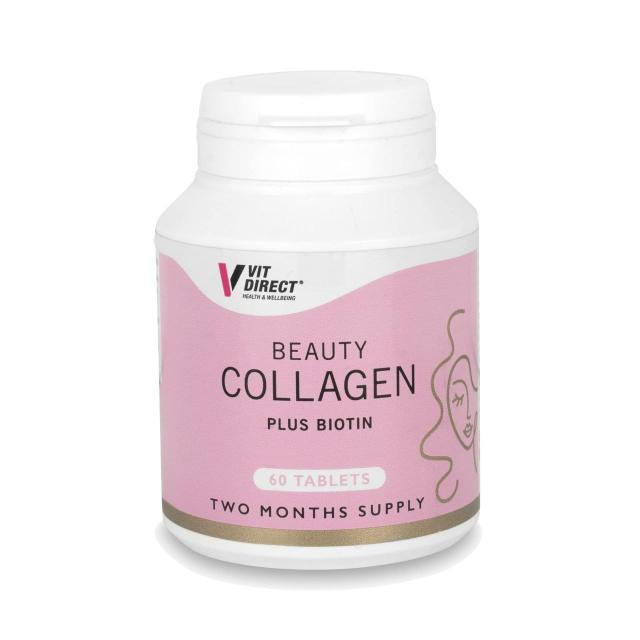cosmotic: (174, 194, 469, 537)
